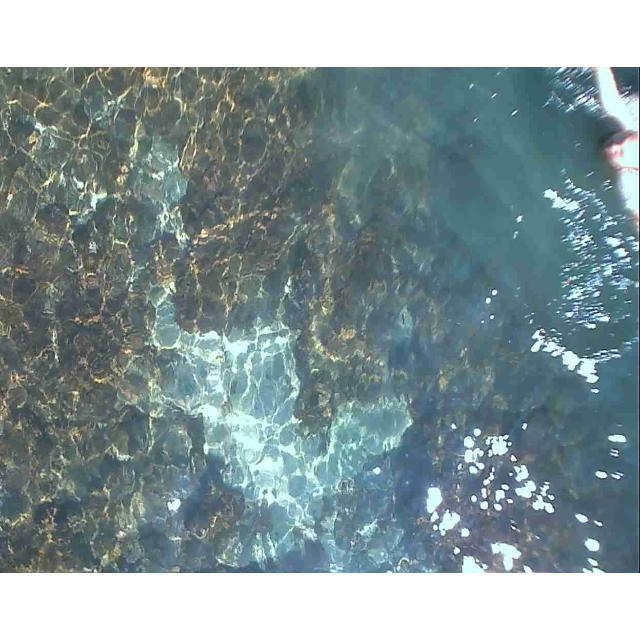human: (548, 67, 635, 257)
